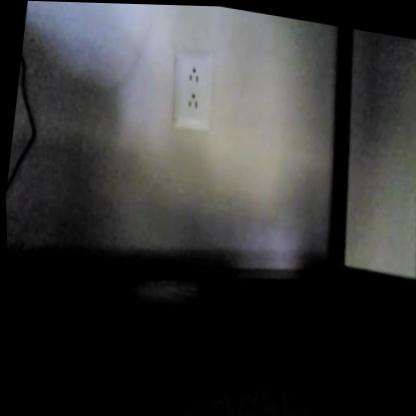OUTLET: (168, 46, 217, 132)
